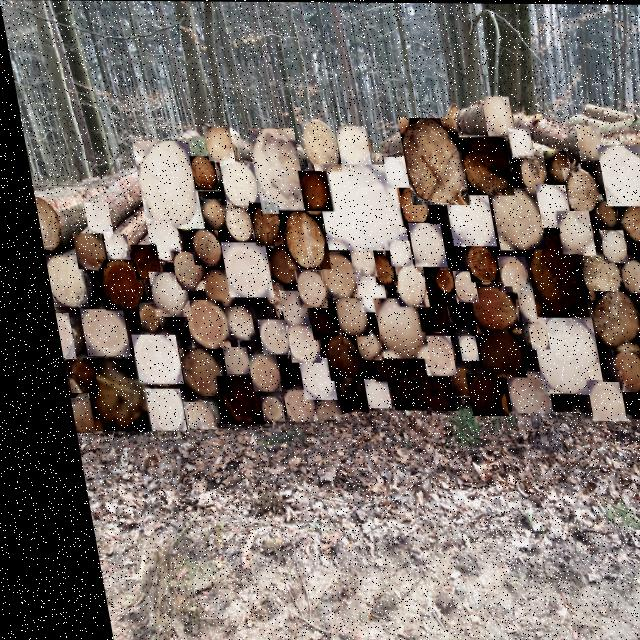wood-log: (314, 164, 398, 250), (399, 117, 459, 204), (133, 142, 191, 228), (524, 317, 585, 393), (76, 359, 137, 431), (520, 234, 573, 316), (248, 129, 297, 214), (487, 188, 535, 249), (367, 298, 414, 358), (595, 144, 640, 206), (457, 137, 504, 195), (214, 242, 260, 297), (441, 190, 486, 245), (275, 211, 317, 269), (584, 293, 628, 348), (122, 335, 168, 383), (90, 260, 134, 310), (71, 310, 116, 355), (206, 376, 248, 424), (37, 256, 76, 307), (462, 287, 506, 332), (468, 331, 511, 377), (298, 119, 334, 171), (176, 300, 216, 346), (169, 349, 208, 396), (495, 371, 538, 413), (311, 253, 348, 298), (313, 335, 349, 381), (574, 255, 611, 299), (142, 272, 178, 317), (216, 162, 251, 208), (559, 167, 594, 212), (455, 372, 491, 415), (132, 389, 169, 430), (402, 223, 436, 266), (552, 211, 585, 253), (532, 184, 563, 227), (28, 197, 52, 252), (409, 335, 442, 375), (577, 382, 611, 420), (289, 358, 321, 398), (386, 265, 416, 306), (603, 349, 632, 391), (245, 202, 273, 245), (294, 171, 324, 211), (324, 297, 356, 334), (458, 245, 490, 282), (408, 372, 439, 410), (333, 126, 364, 164), (480, 96, 509, 135), (236, 354, 266, 391), (277, 325, 307, 362), (142, 221, 171, 259), (408, 293, 437, 331), (392, 188, 421, 226), (66, 233, 96, 269), (288, 270, 316, 308), (194, 270, 223, 306), (300, 303, 328, 340), (166, 252, 193, 290), (260, 248, 290, 282), (248, 319, 277, 354), (347, 276, 375, 312), (185, 230, 213, 265), (358, 350, 389, 381), (57, 398, 84, 433), (491, 257, 518, 292), (324, 378, 352, 411), (218, 206, 245, 240), (124, 245, 150, 280), (271, 390, 300, 421), (379, 380, 410, 409), (55, 360, 82, 393), (202, 127, 228, 161), (614, 206, 640, 240), (215, 308, 242, 340), (616, 382, 640, 418), (185, 157, 211, 189), (573, 126, 598, 159), (272, 291, 296, 325), (516, 155, 540, 189), (594, 229, 618, 262), (171, 402, 200, 429), (44, 313, 61, 359), (541, 150, 564, 184), (613, 260, 637, 292), (78, 203, 103, 232), (342, 246, 366, 276), (509, 292, 533, 322), (352, 380, 377, 408), (345, 330, 368, 360), (211, 347, 236, 374), (379, 156, 400, 187), (195, 200, 218, 228), (444, 272, 466, 301), (364, 256, 386, 284), (506, 128, 527, 157), (97, 233, 119, 259), (129, 304, 149, 332), (438, 369, 460, 394), (247, 396, 268, 421), (392, 357, 413, 382), (382, 240, 402, 266), (517, 323, 536, 349), (538, 393, 566, 410), (425, 270, 445, 293), (560, 299, 580, 322), (590, 203, 610, 226), (447, 335, 465, 360), (302, 402, 325, 420)
